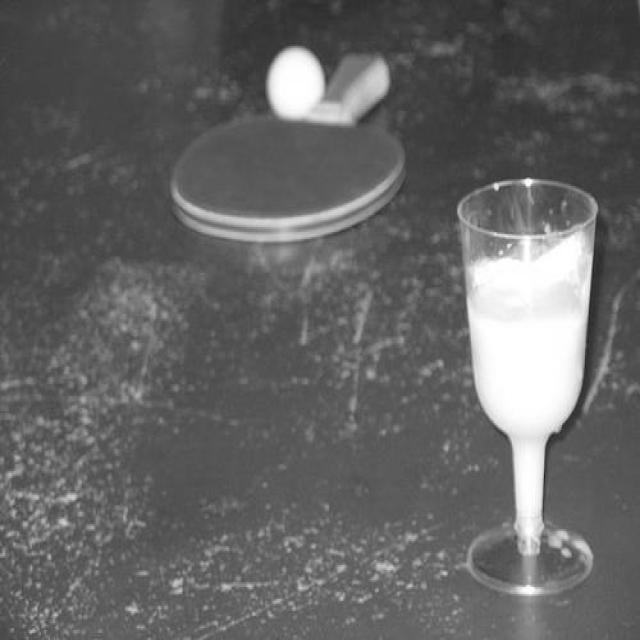ping-pong-ball: (266, 44, 326, 123)
